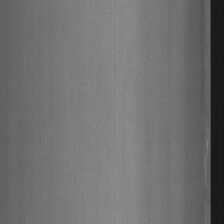silk_spot: (193, 114, 208, 192)
